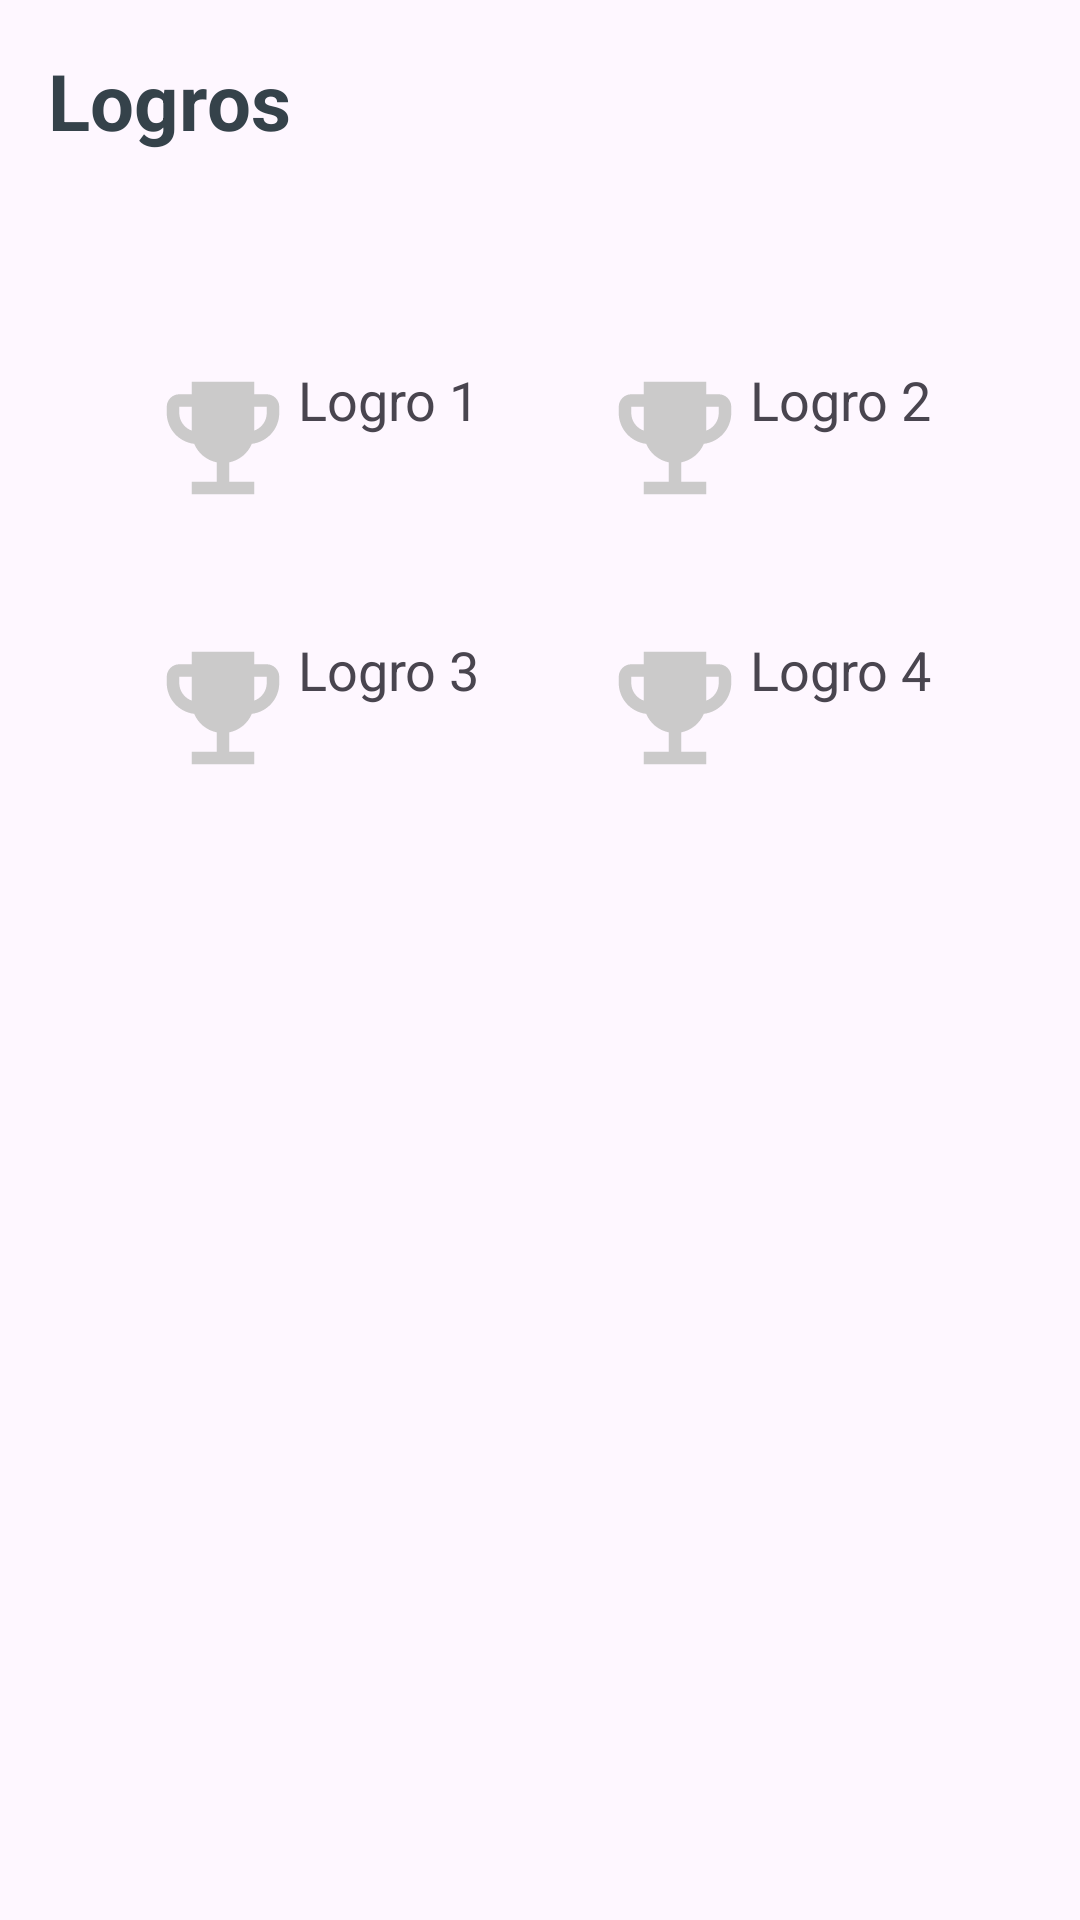

Icons on this 1080×1920 Android screen, each with the point to tap as point (x, y):
emoji events: point (223, 438), point (675, 438), point (223, 708), point (675, 708)
